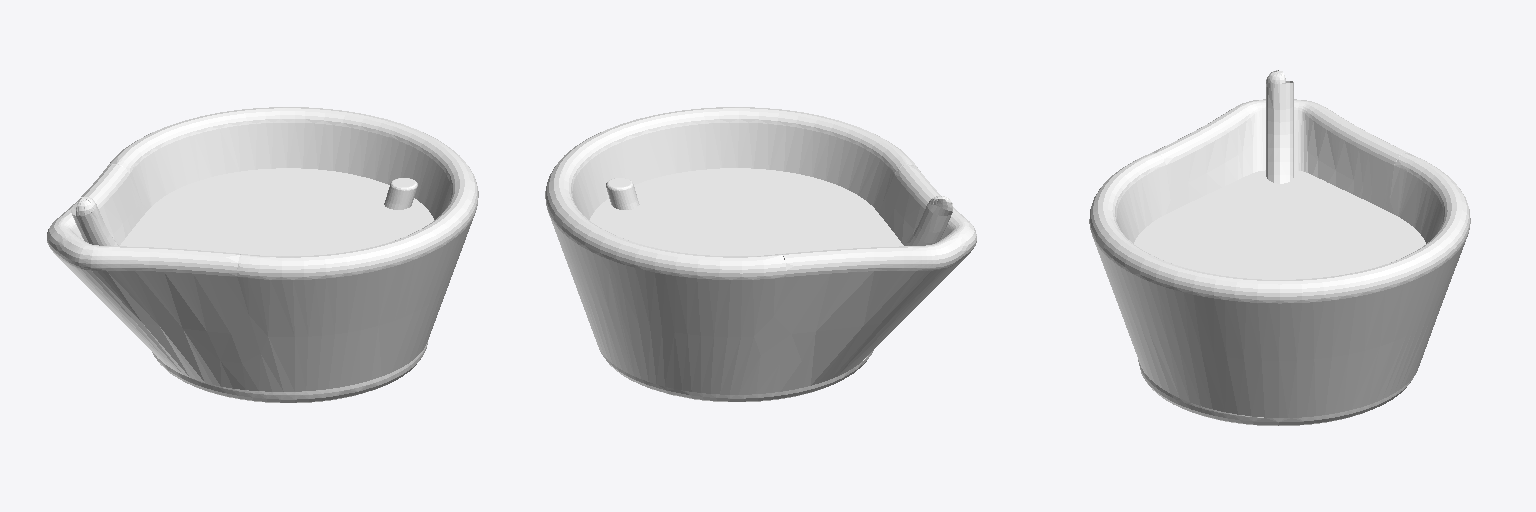
File: panati.obj
The picture shows the model from 3 angles: view 1: azimuth 30°, elevation 25°; view 2: azimuth 150°, elevation 25°; view 3: azimuth 270°, elevation 25°; orthographic projection.
Visible parts, largest first — view 1: 64, object_1, object_3; view 2: 64, object_1, object_3; view 3: 64, object_1, object_3.
Boxes of the visible parts, x1=… form: 64: x1=47, y1=107, x2=478, y2=402; object_1: x1=120, y1=168, x2=433, y2=255; object_3: x1=71, y1=178, x2=417, y2=245; 64: x1=545, y1=107, x2=976, y2=401; object_1: x1=590, y1=168, x2=903, y2=255; object_3: x1=606, y1=178, x2=952, y2=245; 64: x1=1089, y1=99, x2=1470, y2=425; object_1: x1=1134, y1=170, x2=1425, y2=279; object_3: x1=1266, y1=70, x2=1293, y2=183.
Size of the model in its own units: 8.12 by 3.94 by 6.8.